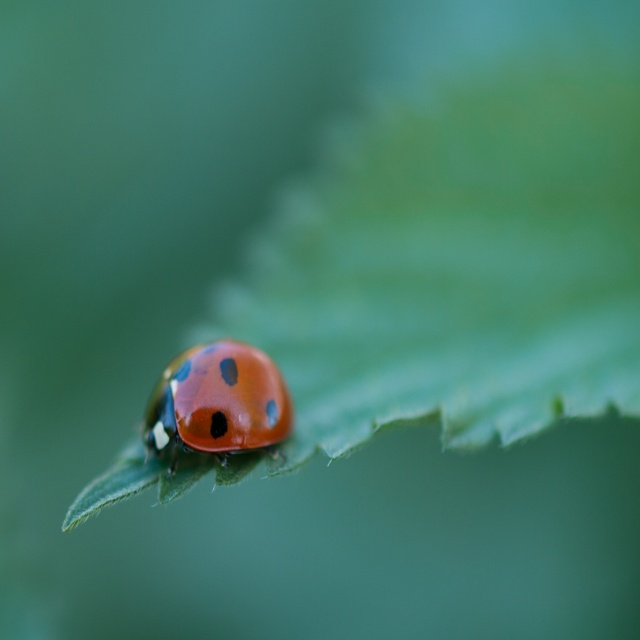Ladybug: (144, 339, 292, 477)
